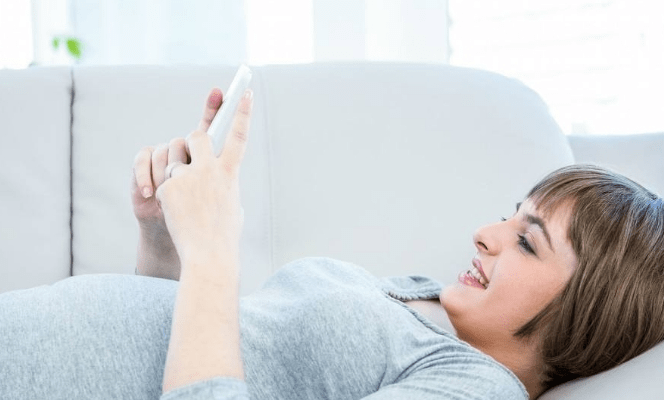reading: (126, 63, 259, 265)
